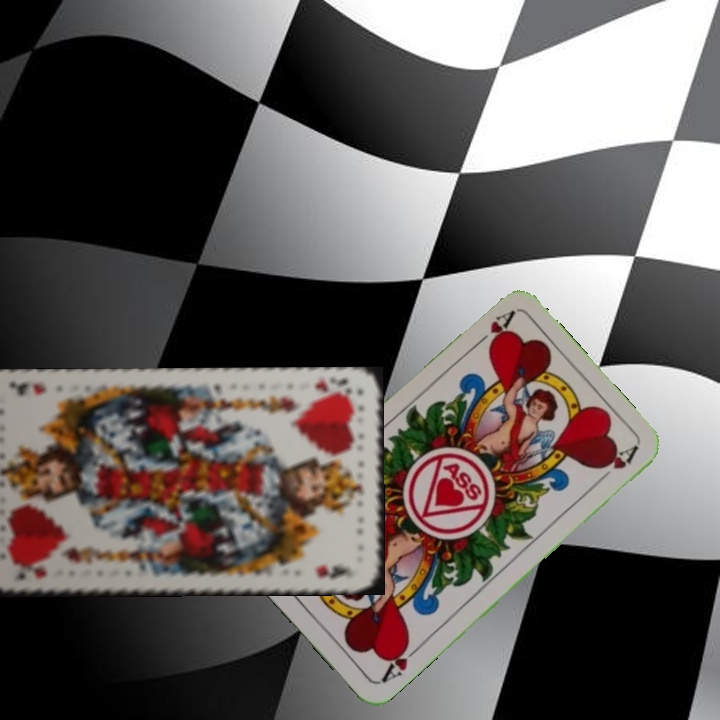HA: (376, 637, 425, 686), (468, 307, 517, 352)
HK: (310, 374, 355, 401), (14, 562, 50, 583)
